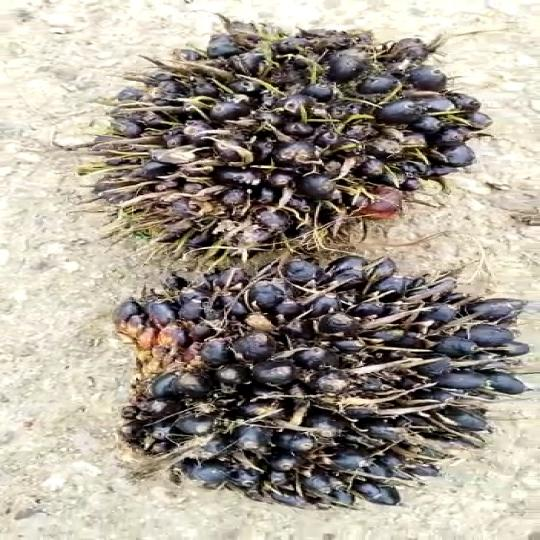mentah: (125, 255, 535, 518), (99, 4, 498, 261)
